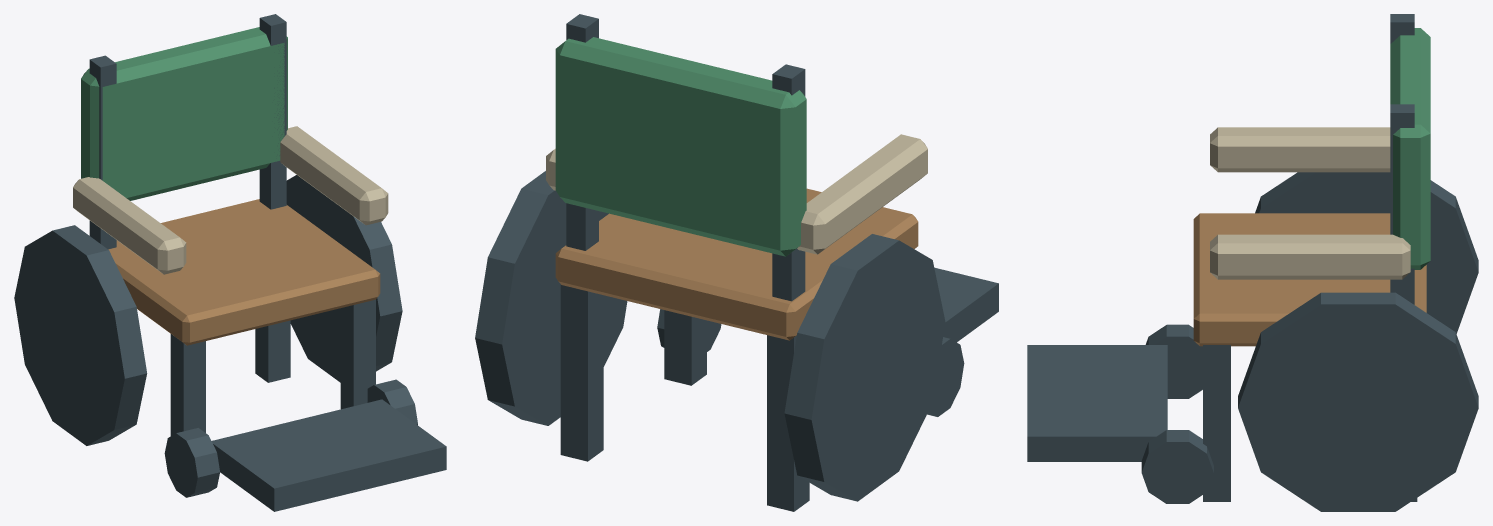
File: wheelchair.glb
3 views of the same model, side by side, from view 1: azimuth 30°, elevation 25°; view 2: azimuth 150°, elevation 25°; view 3: azimuth 270°, elevation 25° (orthographic). The views are drawn at different scales.
Parts seen in each view (by area): view 1: wheelchair; view 2: wheelchair; view 3: wheelchair.
Part boxes in pixels (bbox=[...]): wheelchair: bbox=[14, 14, 446, 511]; wheelchair: bbox=[475, 14, 998, 511]; wheelchair: bbox=[1027, 14, 1478, 511].
Bounding box in the file's own units: 0.87 × 1.06 × 1.12.
